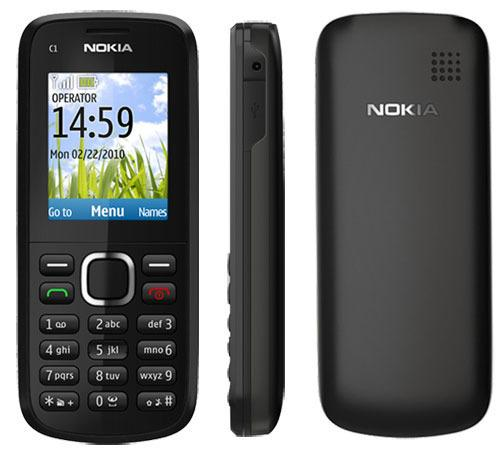phone: (15, 11, 200, 442), (316, 13, 490, 437), (225, 21, 289, 436)
